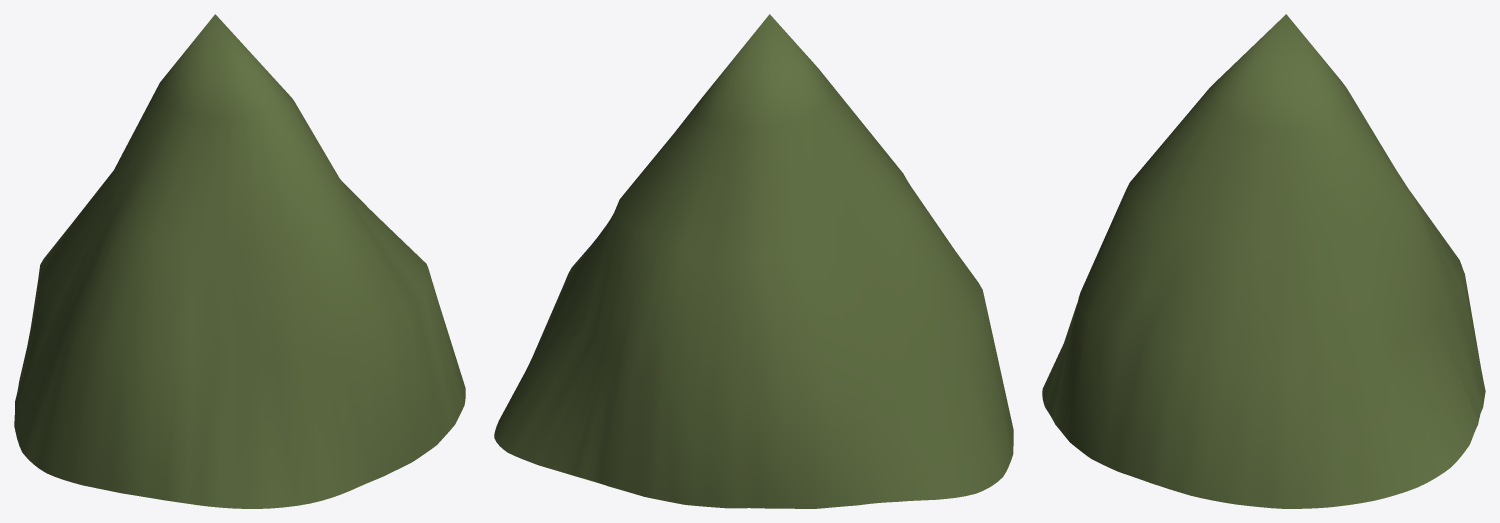
Rendered from Mountain 1.fbx.
The picture shows the model from 3 angles, left to right: view 1: azimuth 30°, elevation 25°; view 2: azimuth 150°, elevation 25°; view 3: azimuth 270°, elevation 25°; orthographic projection. The views are drawn at different scales.
Parts seen in each view (by area): view 1: Cone; view 2: Cone; view 3: Cone.
Boxes of the visible parts, x1,y1,x2,y2 form: Cone: (14, 14, 465, 508); Cone: (494, 14, 1013, 508); Cone: (1042, 14, 1485, 508).
Size of the model in its own units: 11304 by 10451 by 10706.
Materials: 1 (1 with a texture image).
